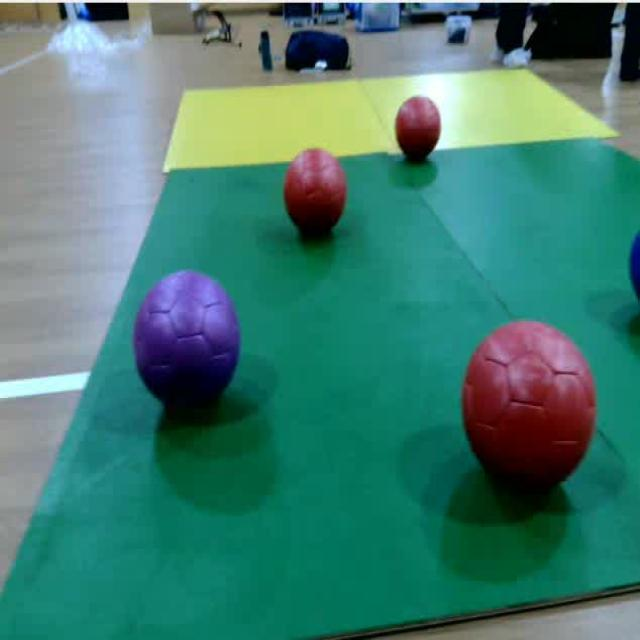blue_ball: (627, 219, 640, 320)
purple_ball: (129, 264, 242, 410)
red_ball: (456, 316, 601, 500), (279, 145, 352, 231), (396, 90, 444, 171)
